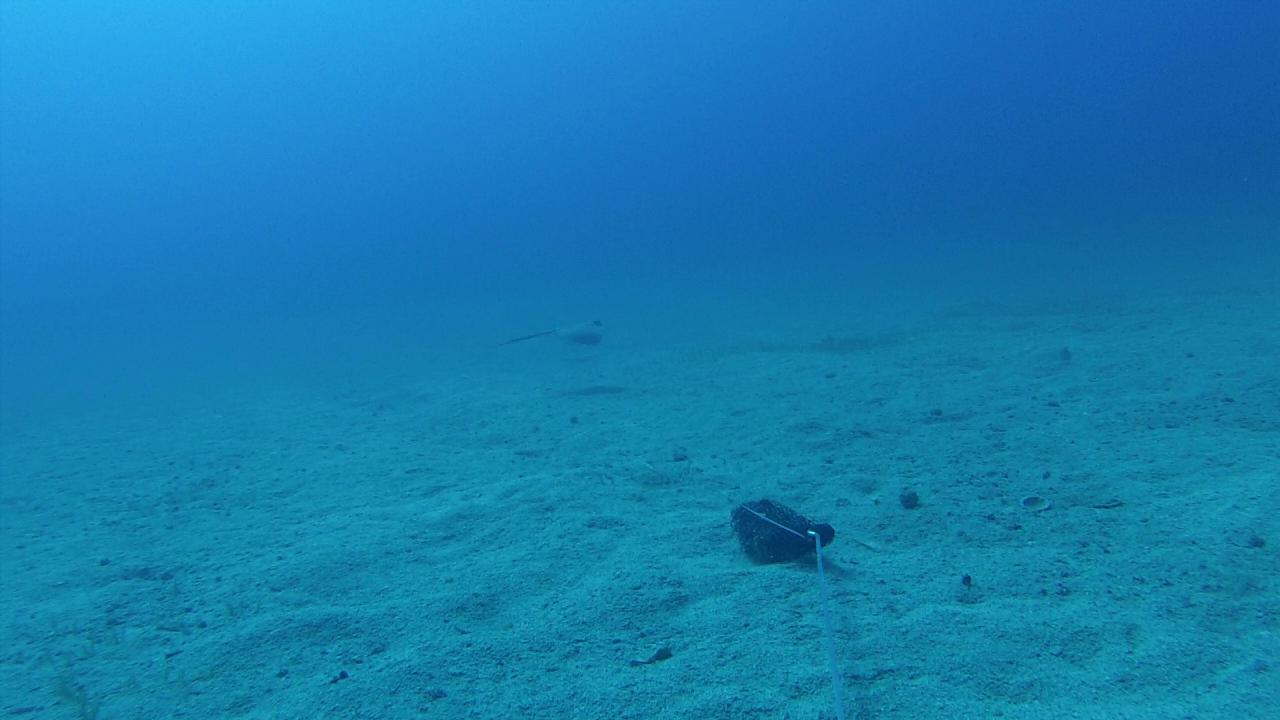dasyatis: (498, 320, 606, 348)
